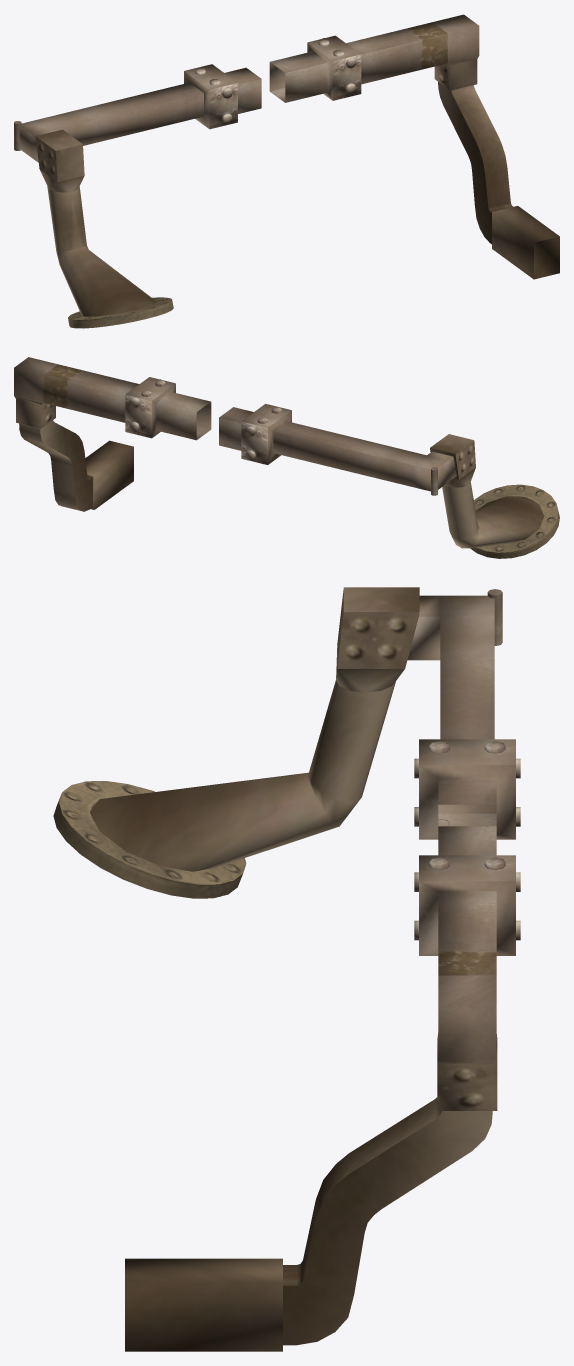
The model's file is Body_BogieRight.dae.
The picture shows the model from 3 angles, top to bottom: view 1: azimuth 30°, elevation 25°; view 2: azimuth 150°, elevation 25°; view 3: azimuth 270°, elevation 25°; orthographic projection. The views are drawn at different scales.
Visible parts, largest first — view 1: suspension_left_rear_rocker1, suspension_left_rear_rocker2; view 2: suspension_left_rear_rocker1, suspension_left_rear_rocker2; view 3: suspension_left_rear_rocker1, suspension_left_rear_rocker2.
Part boxes in pixels (box(x1,y1,x2,y2)): suspension_left_rear_rocker1: box(184, 14, 559, 279); suspension_left_rear_rocker2: box(14, 82, 203, 328); suspension_left_rear_rocker1: box(14, 357, 291, 511); suspension_left_rear_rocker2: box(273, 421, 559, 558); suspension_left_rear_rocker1: box(125, 739, 520, 1351); suspension_left_rear_rocker2: box(53, 587, 502, 898).
Bounding box in the file's own units: 0.5735 × 0.2563 × 0.2216.
Materials: 1 (1 with a texture image).
